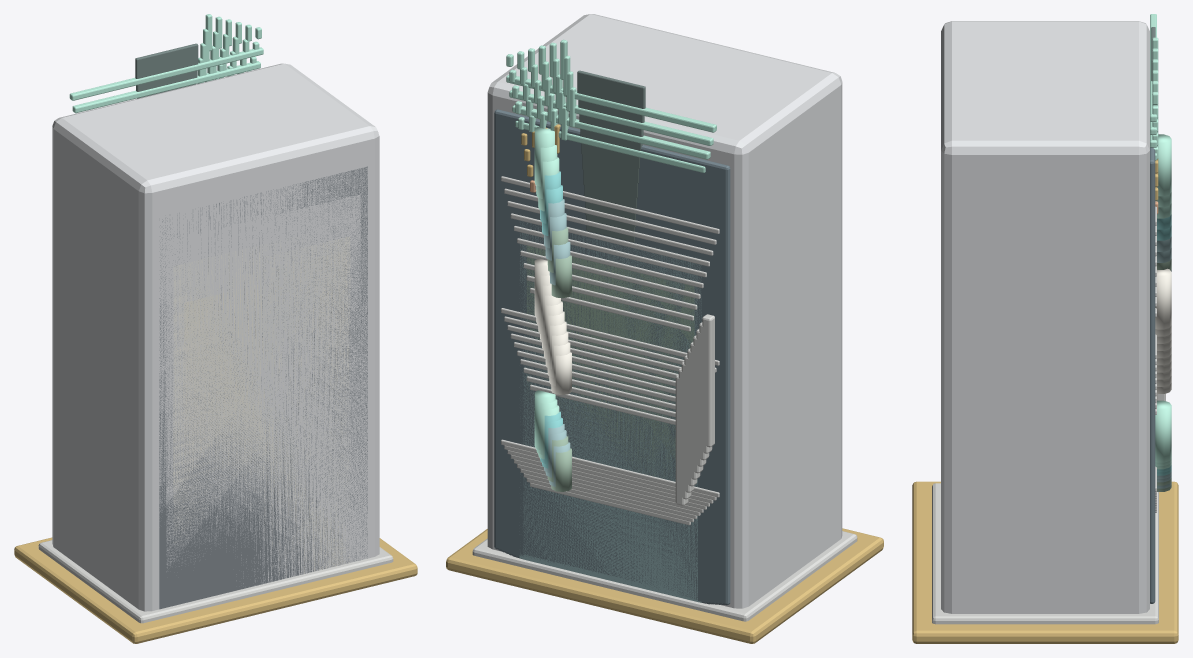
File: Gear04.fbx
The picture shows the model from 3 angles, left to right: view 1: azimuth 30°, elevation 25°; view 2: azimuth 150°, elevation 25°; view 3: azimuth 270°, elevation 25°; orthographic projection. The views are drawn at different scales.
Parts seen in each view (by area): view 1: Gear04_V10_Platinum, Gear04_V8_Graphite, Gear04_V9_Platinum, Gear04_V1_Ivory, Gear04_V6_Platinum, Gear04_V10_Gold, Gear04_V7_Graphite, Gear04_V4_Linen, Gear04_V3_Linen, Gear04_V9_Gold, Gear04_V2_Ivory, Gear04_V10_Glow (+8 smaller); view 2: Gear04_V10_Platinum, Gear04_V10_Glass, Gear04_V2_Blue, Gear04_V1_Sage, Gear04_V7_Glass, Gear04_V10_Gold, Gear04_V10_Chrome, Gear04_V9_Glass, Gear04_V8_Glass, Gear04_V6_Chrome, Gear04_V9_Gold, Gear04_V4_Chrome (+26 smaller); view 3: Gear04_V10_Platinum, Gear04_V10_Gold, Gear04_V9_Gold, Gear04_V10_Chrome, Gear04_V10_Glass, Gear04_V10_Glow, Gear04_V10_Linen, Gear04_V9_Chrome, Gear04_V5_Chrome, Gear04_V7_Chrome, Gear04_V4_Chrome, Gear04_V9_Glow.
Boxes of the visible parts, <box> form: Gear04_V10_Platinum: <box>52,63,379,611</box>; Gear04_V8_Graphite: <box>159,166,367,609</box>; Gear04_V9_Platinum: <box>155,152,371,573</box>; Gear04_V1_Ivory: <box>184,281,343,571</box>; Gear04_V6_Platinum: <box>166,194,360,578</box>; Gear04_V10_Gold: <box>14,538,417,643</box>; Gear04_V7_Graphite: <box>163,183,363,608</box>; Gear04_V4_Linen: <box>173,227,335,542</box>; Gear04_V3_Linen: <box>177,236,350,575</box>; Gear04_V9_Gold: <box>21,537,412,639</box>; Gear04_V2_Ivory: <box>180,251,346,567</box>; Gear04_V10_Glow: <box>69,14,263,100</box>; Gear04_V10_Platinum: <box>487,14,842,608</box>; Gear04_V10_Glass: <box>494,109,730,605</box>; Gear04_V2_Blue: <box>523,233,698,602</box>; Gear04_V1_Sage: <box>526,245,694,491</box>; Gear04_V7_Glass: <box>505,157,717,604</box>; Gear04_V10_Gold: <box>446,528,883,643</box>; Gear04_V10_Chrome: <box>472,176,857,621</box>; Gear04_V9_Glass: <box>498,128,723,604</box>; Gear04_V8_Glass: <box>502,144,720,604</box>; Gear04_V6_Chrome: <box>490,226,728,613</box>; Gear04_V9_Gold: <box>452,528,874,642</box>; Gear04_V4_Chrome: <box>497,250,720,611</box>; Gear04_V10_Platinum: <box>941,21,1149,613</box>; Gear04_V10_Gold: <box>912,481,1178,643</box>; Gear04_V9_Gold: <box>912,483,1178,631</box>; Gear04_V10_Chrome: <box>932,206,1158,624</box>; Gear04_V10_Glass: <box>1150,147,1155,603</box>; Gear04_V10_Glow: <box>1150,14,1171,462</box>; Gear04_V10_Linen: <box>1155,268,1171,329</box>; Gear04_V9_Chrome: <box>932,225,1156,616</box>; Gear04_V5_Chrome: <box>932,266,1158,609</box>; Gear04_V7_Chrome: <box>932,246,1158,613</box>; Gear04_V4_Chrome: <box>933,276,1156,581</box>; Gear04_V9_Glow: <box>1150,104,1171,465</box>.
Bounding box in the file's own units: 100 × 170 × 74.
